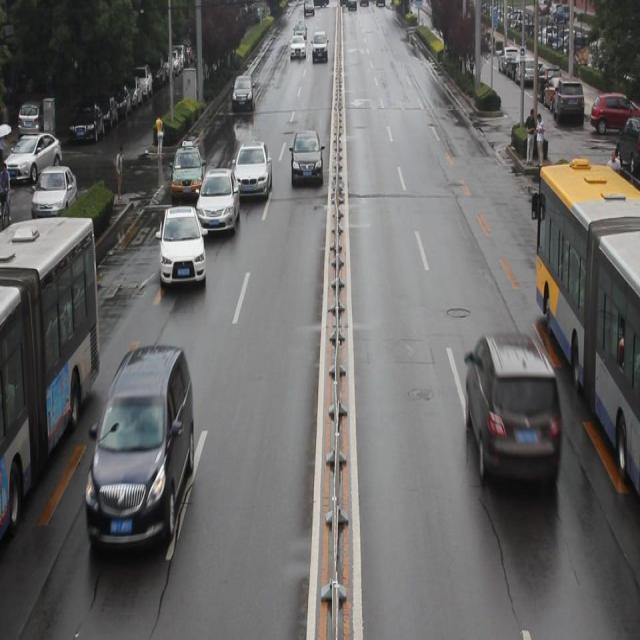car: (87, 348, 194, 554), (461, 330, 563, 496), (157, 207, 207, 292), (194, 166, 241, 239), (231, 144, 272, 199), (170, 141, 204, 205), (289, 132, 323, 187)
van: (530, 171, 640, 497), (0, 216, 99, 532)
